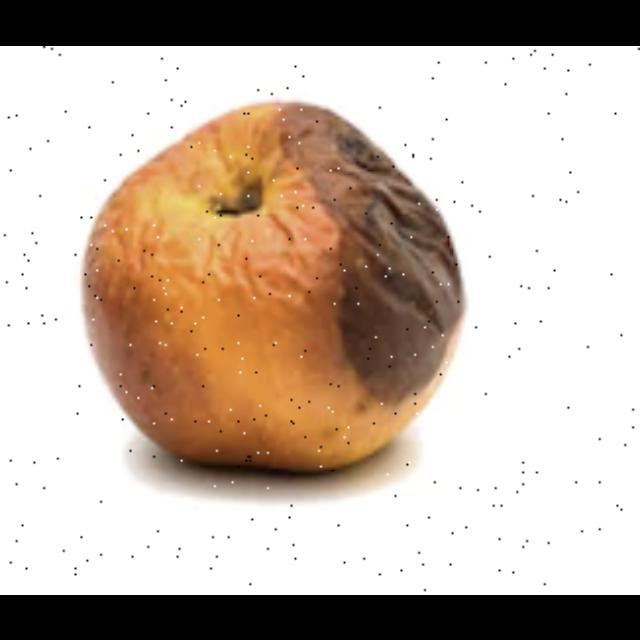Apel Tidak Segar: (81, 96, 471, 472)
